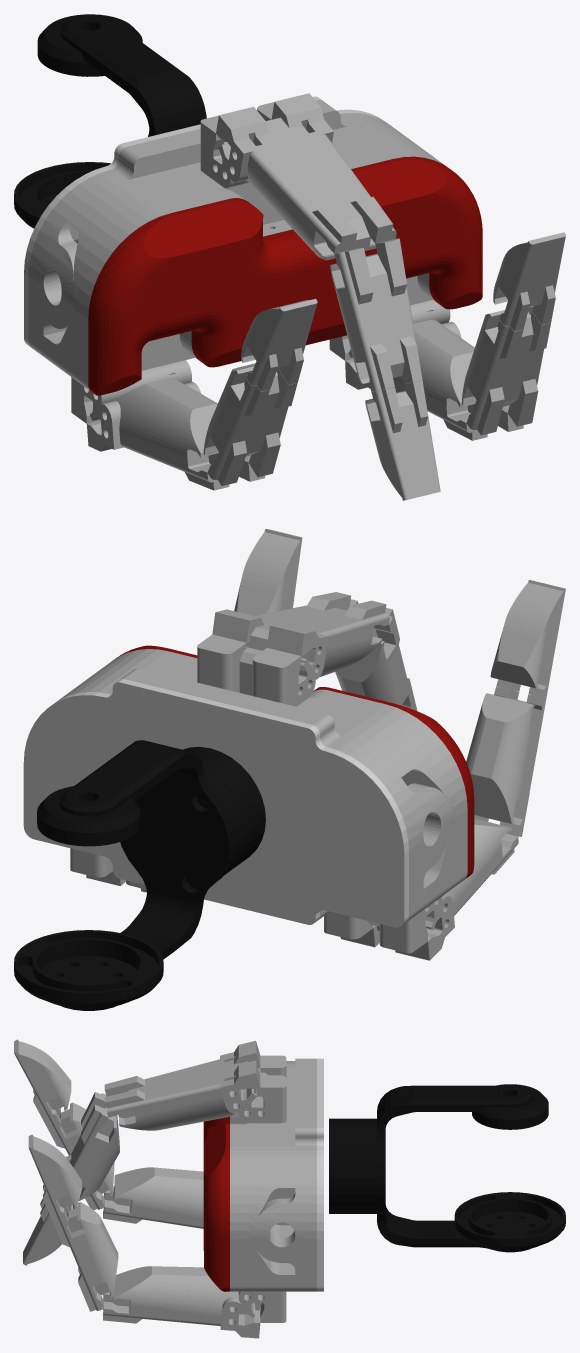
Rendered from HandO2_small.obj.
3 renders of one model, top to bottom at view 1: azimuth 30°, elevation 25°; view 2: azimuth 150°, elevation 25°; view 3: azimuth 270°, elevation 25°, orthographic. The views are drawn at different scales.
Visible parts, largest first — view 1: Hand_ball_-_palmPadMountingPAD-1_Hand_ball_-_palmPadMountingPAD-, Hand_ball_-_Finger_Proximal-2_Hand_ball_-_Finger_Proximal-2.001, Hand_ball_-_Finger_Distal-3_Hand_ball_-_Finger_Distal-3.001, Hand_ball_-_Finger_Distal-1_Hand_ball_-_Finger_Distal-1.001, Hand_ball_-_FingerMountingTopPlate-1_Hand_ball_-_FingerMountingT, Hand_ball_-_Finger_Distal-2_Hand_ball_-_Finger_Distal-2.001, Hand_ball_-_ShaftSupport-1_Hand_ball_-_ShaftSupport-1.001, wrist_yaw_right.000, Hand_ball_-_Finger_Proximal-3_Hand_ball_-_Finger_Proximal-3.001, Hand_ball_-_Finger_Proximal-1_Hand_ball_-_Finger_Proximal-1.001, Hand_ball_-_eyeHookMountingPlate-1_Hand_ball_-_eyeHookMountingPl, wrist_yaw_right_flange.000 (+4 smaller); view 2: Hand_ball_-_ShaftSupport_underplate-1_Hand_ball_-_ShaftSupport_u, wrist_yaw_right.000, Hand_ball_-_Finger_Distal-2_Hand_ball_-_Finger_Distal-2.001, Hand_ball_-_ShaftSupport-1_Hand_ball_-_ShaftSupport-1.001, wrist_yaw_right_flange.000, Hand_ball_-_Finger_Proximal-2_Hand_ball_-_Finger_Proximal-2.001, Hand_ball_-_FingerMountingTopPlate-1_Hand_ball_-_FingerMountingT, Hand_ball_-_2015_12_28_Finger_New_baseOnly-1_Hand_ball_-_2015_12, Hand_ball_-_eyeHookMountingPlate-1_Hand_ball_-_eyeHookMountingPl, Hand_ball_-_Finger_Proximal-3_Hand_ball_-_Finger_Proximal-3.001, Hand_ball_-_Finger_Distal-1_Hand_ball_-_Finger_Distal-1.001, Cylinder.001 (+4 smaller); view 3: wrist_yaw_right.000, Hand_ball_-_Finger_Proximal-2_Hand_ball_-_Finger_Proximal-2.001, Hand_ball_-_Finger_Proximal-1_Hand_ball_-_Finger_Proximal-1.001, Hand_ball_-_ShaftSupport-1_Hand_ball_-_ShaftSupport-1.001, Hand_ball_-_FingerMountingTopPlate-1_Hand_ball_-_FingerMountingT, Hand_ball_-_Finger_Distal-1_Hand_ball_-_Finger_Distal-1.001, wrist_yaw_right_flange.000, Hand_ball_-_Finger_Proximal-3_Hand_ball_-_Finger_Proximal-3.001, Cylinder.001, Hand_ball_-_Finger_Distal-3_Hand_ball_-_Finger_Distal-3.001, Hand_ball_-_palmPadMountingPAD-1_Hand_ball_-_palmPadMountingPAD-, Hand_ball_-_Finger_Distal-2_Hand_ball_-_Finger_Distal-2.001 (+4 smaller).
Boxes of the visible parts, bbox=[...] form: Hand_ball_-_palmPadMountingPAD-1_Hand_ball_-_palmPadMountingPAD-: bbox=[88, 156, 482, 395]; Hand_ball_-_Finger_Proximal-2_Hand_ball_-_Finger_Proximal-2.001: bbox=[216, 93, 396, 260]; Hand_ball_-_Finger_Distal-3_Hand_ball_-_Finger_Distal-3.001: bbox=[330, 238, 440, 500]; Hand_ball_-_Finger_Distal-1_Hand_ball_-_Finger_Distal-1.001: bbox=[461, 232, 565, 435]; Hand_ball_-_FingerMountingTopPlate-1_Hand_ball_-_FingerMountingT: bbox=[43, 124, 437, 382]; Hand_ball_-_Finger_Distal-2_Hand_ball_-_Finger_Distal-2.001: bbox=[203, 298, 317, 485]; Hand_ball_-_ShaftSupport-1_Hand_ball_-_ShaftSupport-1.001: bbox=[28, 100, 402, 357]; wrist_yaw_right.000: bbox=[37, 14, 206, 136]; Hand_ball_-_Finger_Proximal-3_Hand_ball_-_Finger_Proximal-3.001: bbox=[86, 378, 265, 490]; Hand_ball_-_Finger_Proximal-1_Hand_ball_-_Finger_Proximal-1.001: bbox=[345, 319, 523, 440]; Hand_ball_-_eyeHookMountingPlate-1_Hand_ball_-_eyeHookMountingPl: bbox=[76, 148, 447, 390]; wrist_yaw_right_flange.000: bbox=[14, 162, 110, 228]; Hand_ball_-_ShaftSupport_underplate-1_Hand_ball_-_ShaftSupport_u: bbox=[23, 679, 408, 927]; wrist_yaw_right.000: bbox=[37, 740, 234, 1010]; Hand_ball_-_Finger_Distal-2_Hand_ball_-_Finger_Distal-2.001: bbox=[466, 580, 565, 836]; Hand_ball_-_ShaftSupport-1_Hand_ball_-_ShaftSupport-1.001: bbox=[55, 668, 452, 921]; wrist_yaw_right_flange.000: bbox=[14, 930, 163, 1008]; Hand_ball_-_Finger_Proximal-2_Hand_ball_-_Finger_Proximal-2.001: bbox=[212, 592, 389, 679]; Hand_ball_-_FingerMountingTopPlate-1_Hand_ball_-_FingerMountingT: bbox=[69, 657, 455, 911]; Hand_ball_-_2015_12_28_Finger_New_baseOnly-1_Hand_ball_-_2015_12: bbox=[197, 634, 315, 706]; Hand_ball_-_eyeHookMountingPlate-1_Hand_ball_-_eyeHookMountingPl: bbox=[102, 649, 467, 887]; Hand_ball_-_Finger_Proximal-3_Hand_ball_-_Finger_Proximal-3.001: bbox=[340, 818, 518, 960]; Hand_ball_-_Finger_Distal-1_Hand_ball_-_Finger_Distal-1.001: bbox=[234, 529, 302, 615]; Cylinder.001: bbox=[183, 746, 265, 884]; wrist_yaw_right.000: bbox=[377, 1084, 548, 1252]; Hand_ball_-_Finger_Proximal-2_Hand_ball_-_Finger_Proximal-2.001: bbox=[104, 1040, 260, 1130]; Hand_ball_-_Finger_Proximal-1_Hand_ball_-_Finger_Proximal-1.001: bbox=[103, 1266, 260, 1338]; Hand_ball_-_ShaftSupport-1_Hand_ball_-_ShaftSupport-1.001: bbox=[251, 1058, 316, 1291]; Hand_ball_-_FingerMountingTopPlate-1_Hand_ball_-_FingerMountingT: bbox=[247, 1061, 295, 1291]; Hand_ball_-_Finger_Distal-1_Hand_ball_-_Finger_Distal-1.001: bbox=[28, 1134, 118, 1311]; wrist_yaw_right_flange.000: bbox=[454, 1192, 565, 1250]; Hand_ball_-_Finger_Proximal-3_Hand_ball_-_Finger_Proximal-3.001: bbox=[103, 1167, 203, 1228]; Cylinder.001: bbox=[329, 1118, 376, 1213]; Hand_ball_-_Finger_Distal-3_Hand_ball_-_Finger_Distal-3.001: bbox=[23, 1092, 119, 1265]; Hand_ball_-_palmPadMountingPAD-1_Hand_ball_-_palmPadMountingPAD-: bbox=[203, 1116, 229, 1291]; Hand_ball_-_Finger_Distal-2_Hand_ball_-_Finger_Distal-2.001: bbox=[14, 1039, 114, 1210].
Bounding box in the file's own units: 0.135 × 0.1 × 0.2279.
